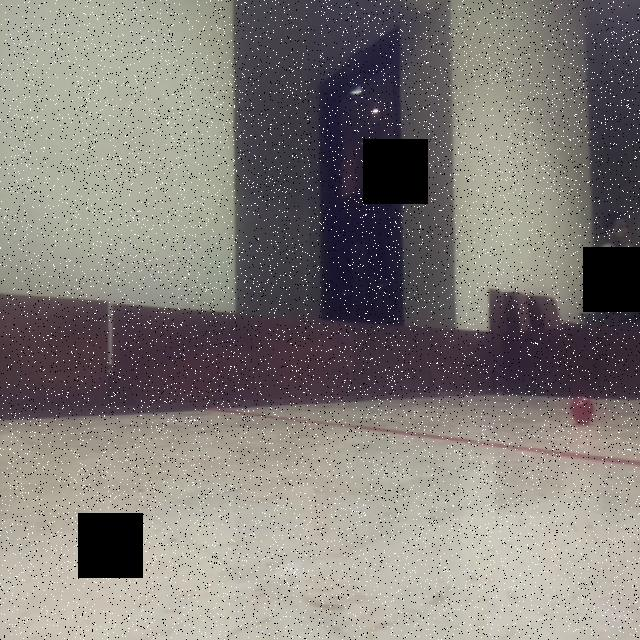ball: (572, 394, 596, 426)
